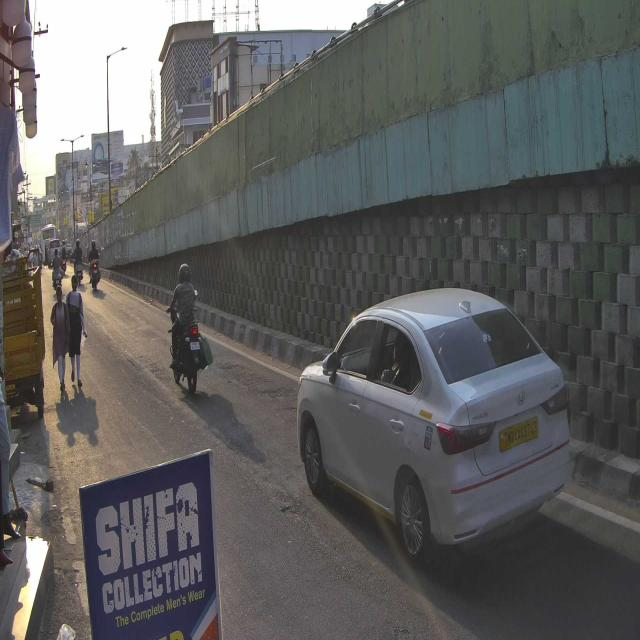single_rider: (165, 263, 206, 393)
